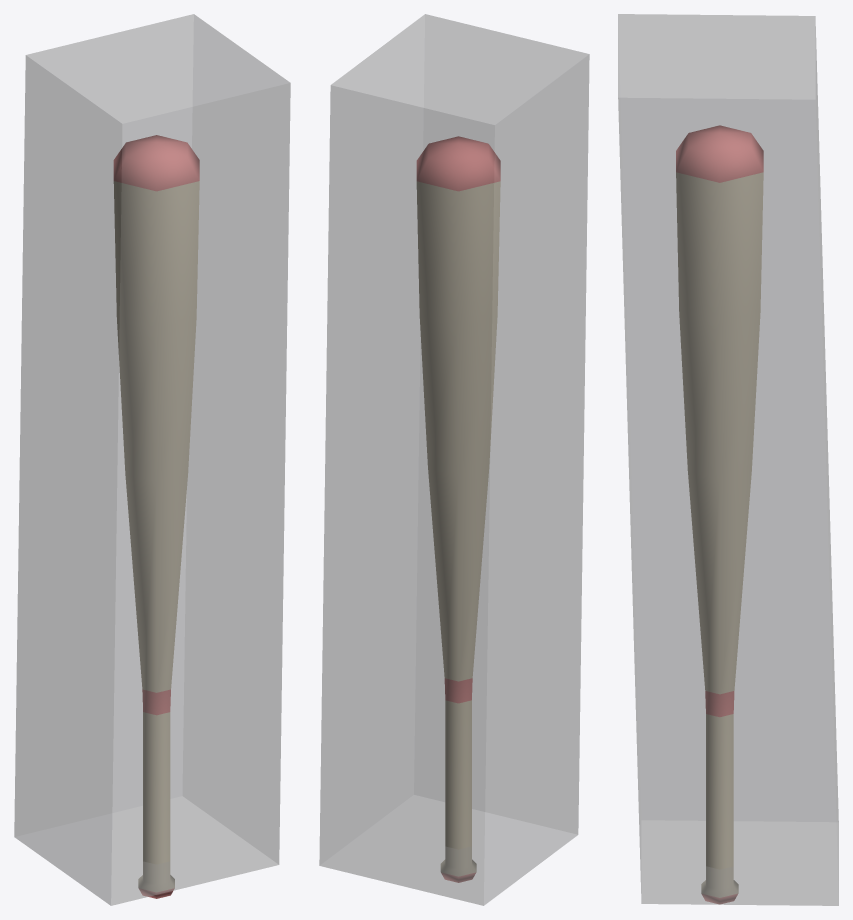
The model's file is weapon_bat.fbx.
3 views of the same model, side by side, from view 1: azimuth 30°, elevation 25°; view 2: azimuth 150°, elevation 25°; view 3: azimuth 270°, elevation 25° (orthographic). The views are drawn at different scales.
Parts seen in each view (by area): view 1: simple, weapon7bat; view 2: simple, weapon7bat; view 3: simple, weapon7bat.
Part boxes in pixels (bbox=[...]): simple: bbox=[14, 14, 290, 905]; weapon7bat: bbox=[113, 135, 199, 898]; simple: bbox=[319, 14, 589, 905]; weapon7bat: bbox=[416, 136, 500, 882]; simple: bbox=[618, 14, 838, 905]; weapon7bat: bbox=[676, 125, 763, 904].
Bounding box in the file's own units: 0.3196 × 1.5 × 0.3561.
